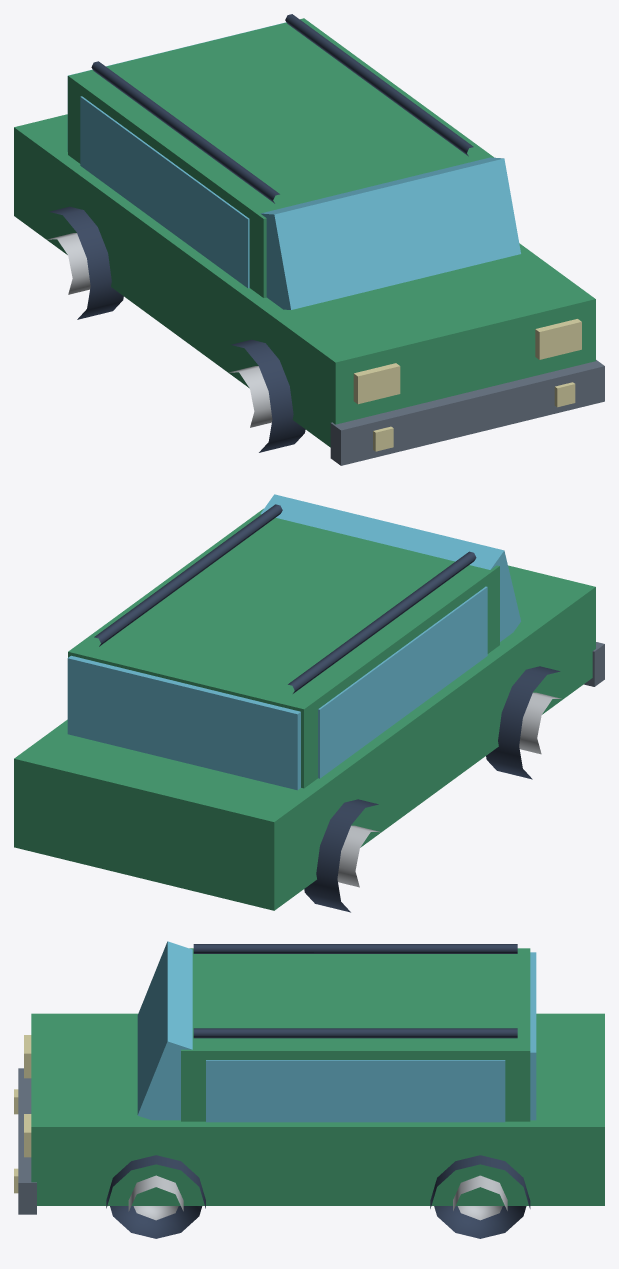
Rendered from parked-car.glb.
3 renders of one model, top to bottom at view 1: azimuth 30°, elevation 25°; view 2: azimuth 150°, elevation 25°; view 3: azimuth 270°, elevation 25°, orthographic. The views are drawn at different scales.
Visible parts, largest first — view 1: Root; view 2: Root; view 3: Root.
Part boxes in pixels (bbox=[...]): Root: bbox=[14, 14, 604, 465]; Root: bbox=[14, 494, 604, 912]; Root: bbox=[14, 941, 604, 1238].
Size of the model in its own units: 2.59 by 1.78 by 4.74.
